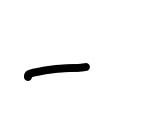minus: (24, 63, 90, 82)
